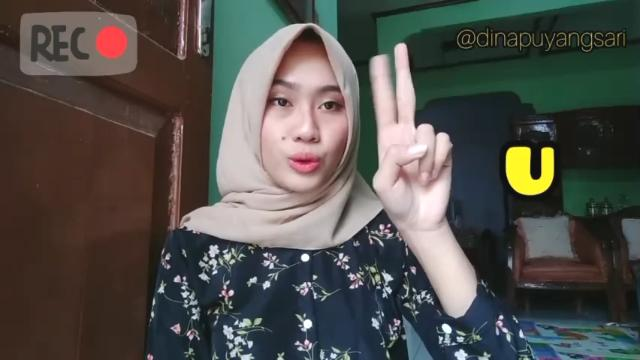U: (364, 40, 466, 232)
